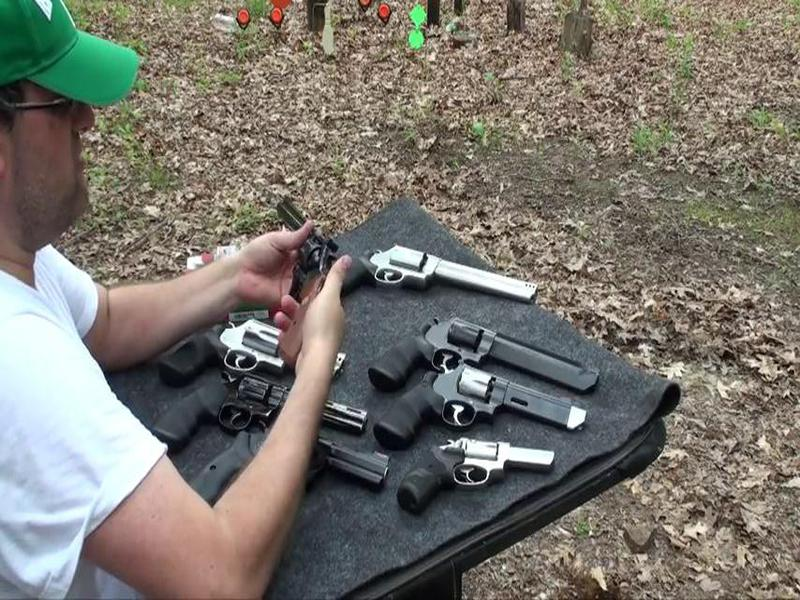Revolver: (265, 186, 345, 368)
